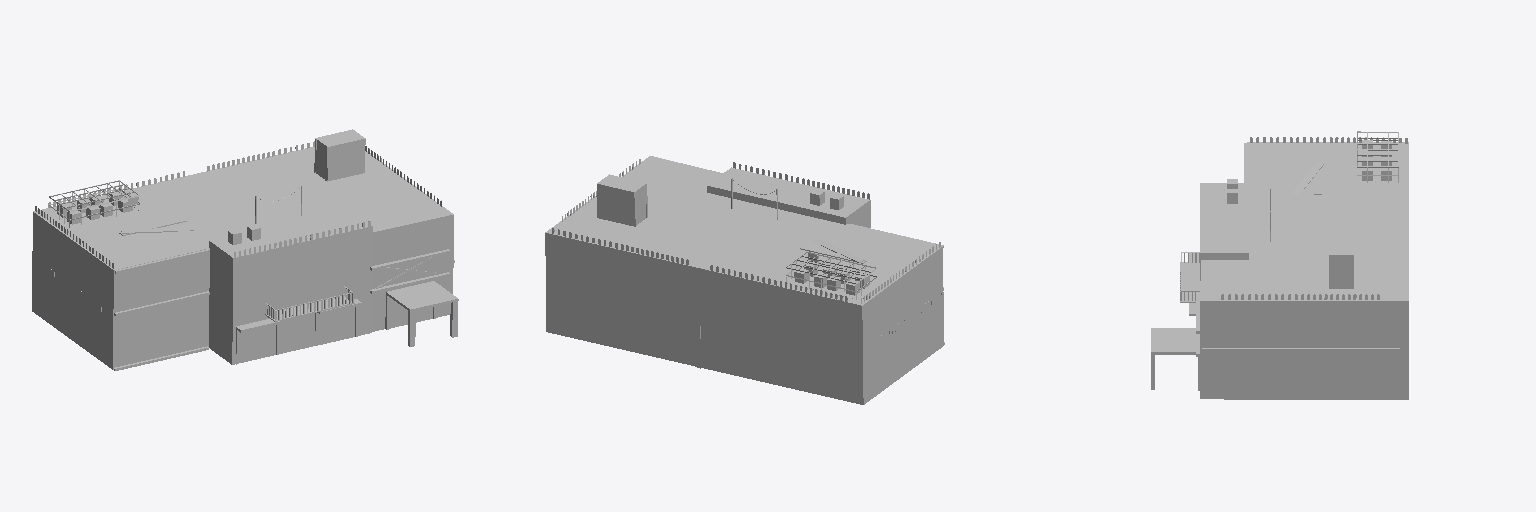
The model's file is old_warehouse.obj.
The picture shows the model from 3 angles: view 1: azimuth 30°, elevation 25°; view 2: azimuth 150°, elevation 25°; view 3: azimuth 270°, elevation 25°; orthographic projection.
Parts seen in each view (by area): view 1: OLD_house; view 2: OLD_house; view 3: OLD_house.
Boxes of the visible parts, box(x1,y1,x2,y2) form: OLD_house: box(32, 129, 458, 370); OLD_house: box(545, 156, 944, 404); OLD_house: box(1151, 131, 1408, 399).
Bounding box in the file's own units: 5.53 × 2.22 × 3.87.